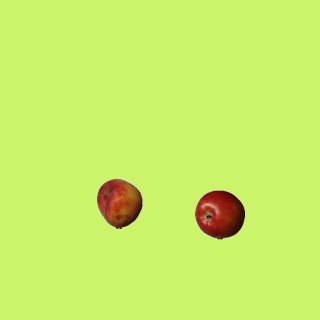Apple Braeburn: (194, 189, 244, 239)
Peach: (94, 178, 144, 228)
